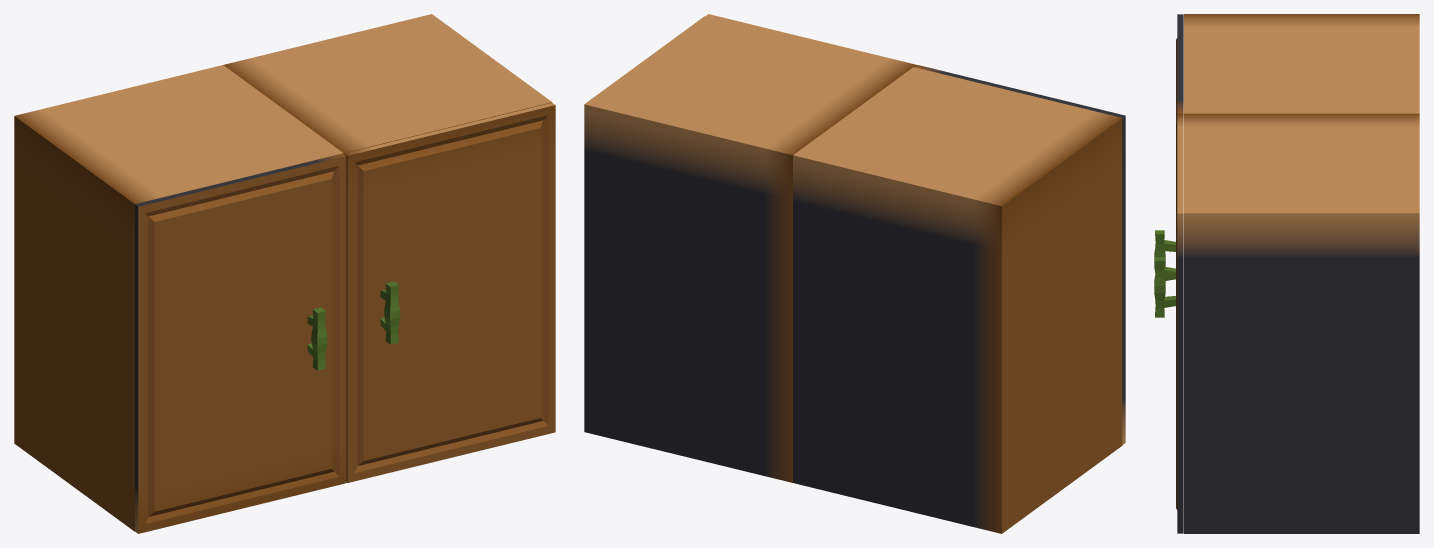
File: KitchenTabletop1_04.fbx
The picture shows the model from 3 angles, left to right: view 1: azimuth 30°, elevation 25°; view 2: azimuth 150°, elevation 25°; view 3: azimuth 270°, elevation 25°; orthographic projection. The views are drawn at different scales.
Parts seen in each view (by area): view 1: KitchenTabletop1_04; view 2: KitchenTabletop1_04; view 3: KitchenTabletop1_04.
Part boxes in pixels (x1,y1,x2,y2): KitchenTabletop1_04: (14,14,555,533); KitchenTabletop1_04: (584,14,1125,533); KitchenTabletop1_04: (1154,14,1419,533).
Bounding box in the file's own units: 0.7967 × 0.5975 × 0.4484.
